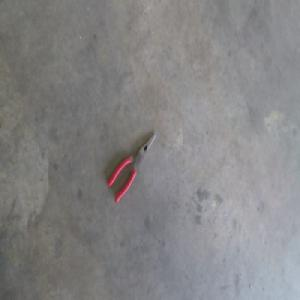Pliers: (108, 128, 158, 202)
